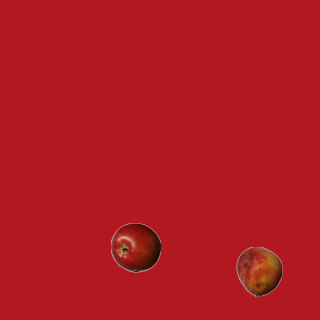Apple Braeburn: (110, 222, 160, 272)
Peach: (234, 246, 284, 296)
